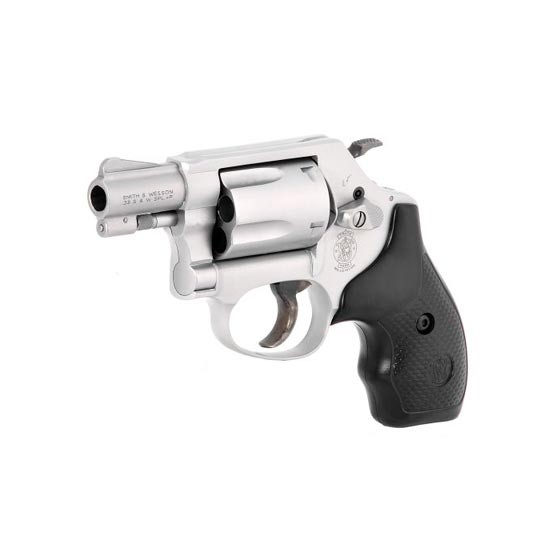Revolver: (74, 113, 488, 439)
